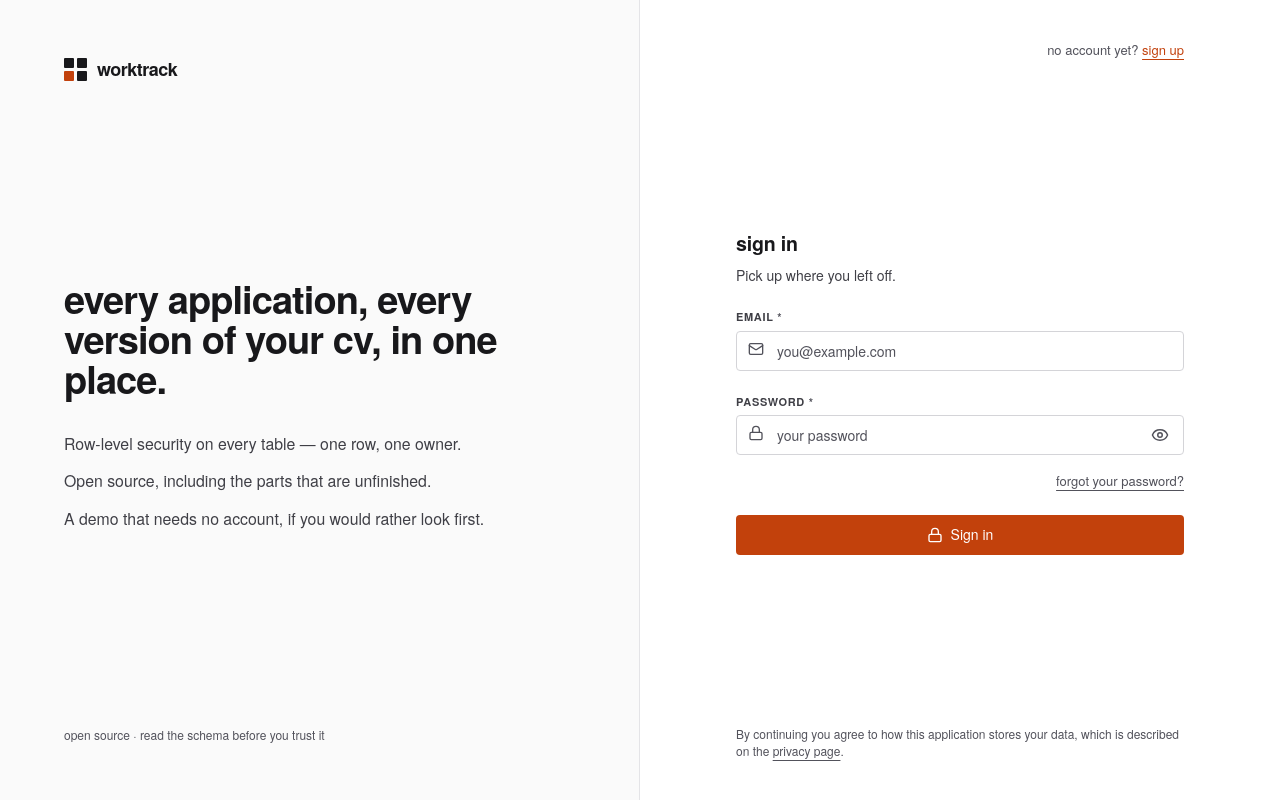
Test: AuthScreen failure handling › re-enables the submit after a failure so it can be retried
In the field labelled "Email *": (960,351) [736,331,1184,371], type "a@b.test"
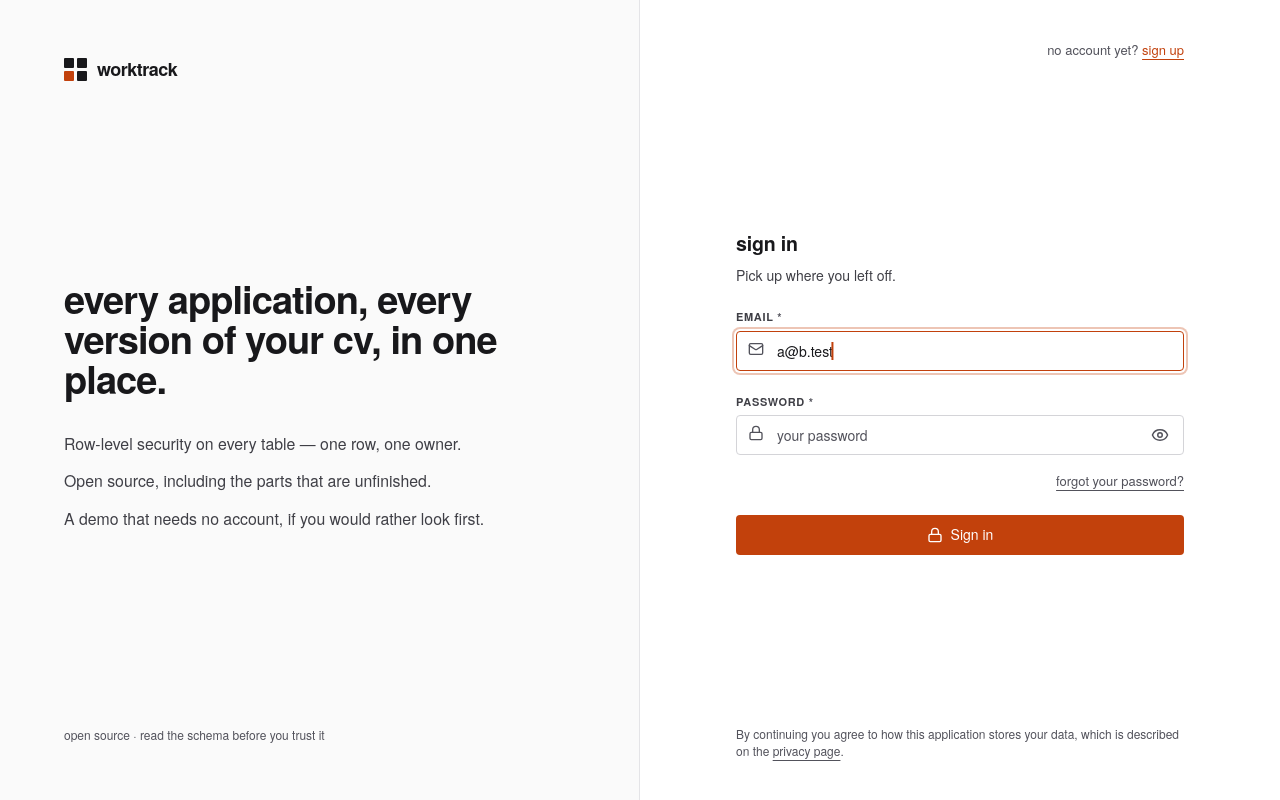
In the password field labelled "Password *": (960,435) [736,415,1184,455], type "hunter22"
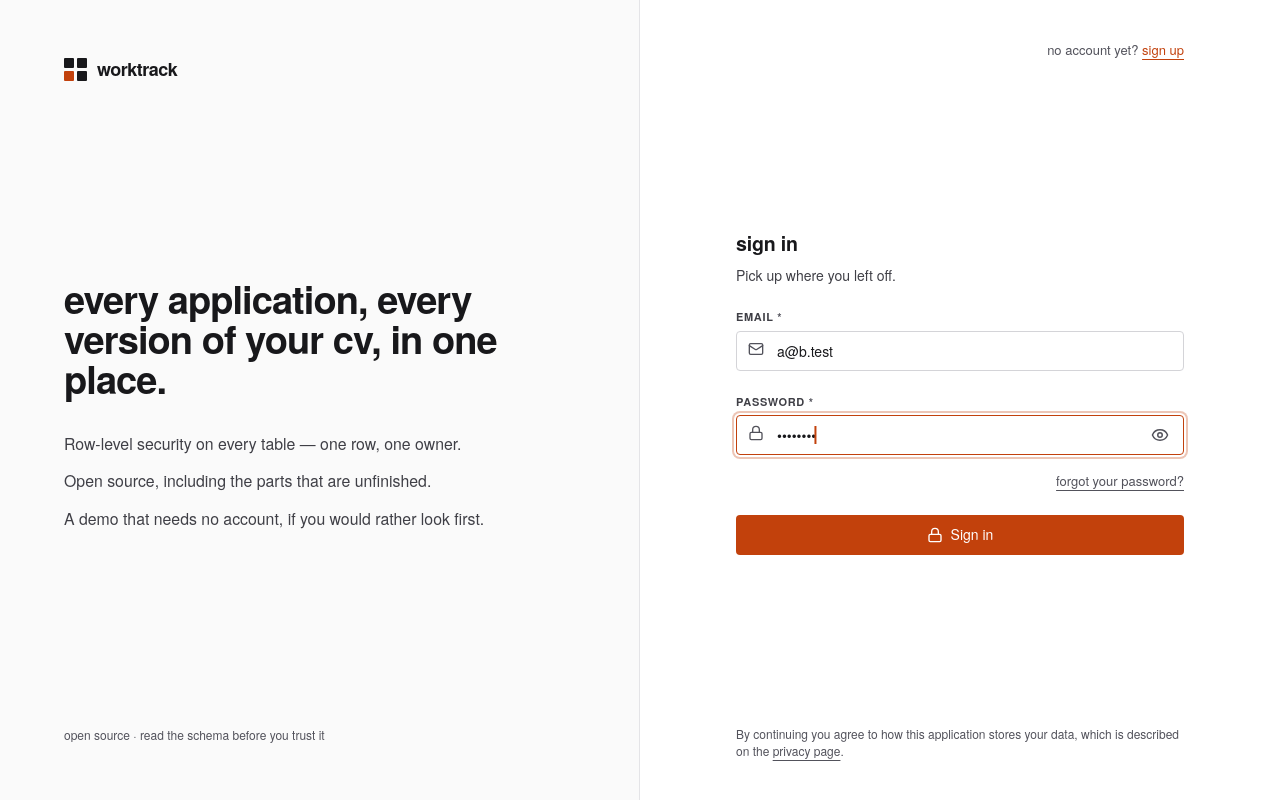
Click the button "Sign in": (960,535) [736,515,1184,555]
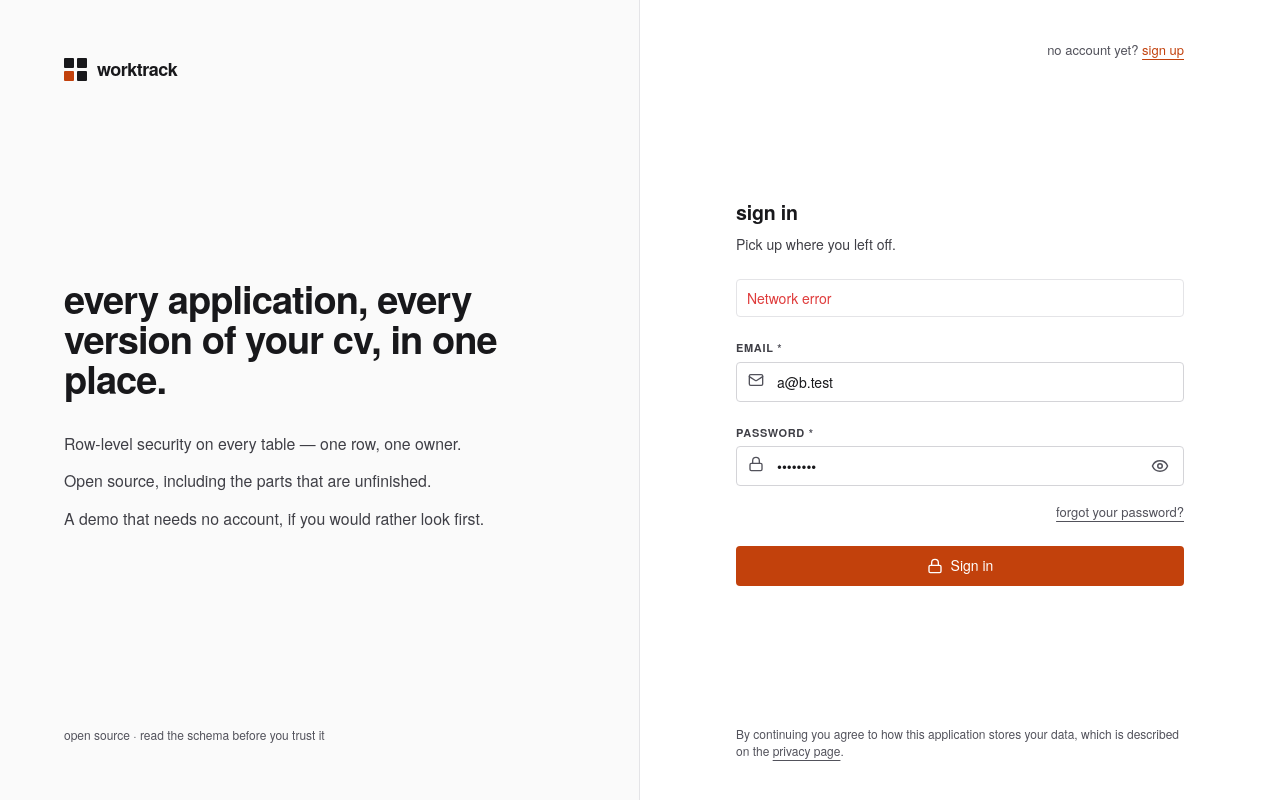
Expected: the button "Sign in" is enabled, [736,546,1184,586]
Now the text "Network error" is shown, box [747,288,832,308]
